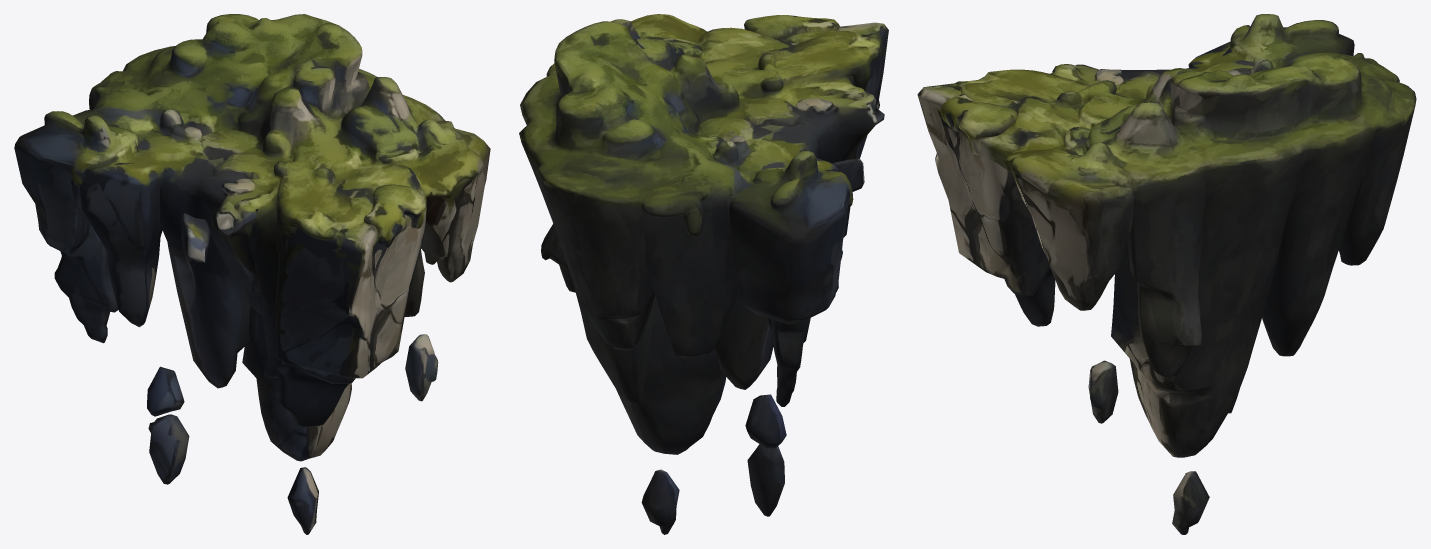
File: floating+rock+island+3d+model.fbx
3 renders of one model, left to right at view 1: azimuth 30°, elevation 25°; view 2: azimuth 150°, elevation 25°; view 3: azimuth 270°, elevation 25°, orthographic. The views are drawn at different scales.
Parts seen in each view (by area): view 1: tripo_579b9250_e28e_409e_9be5_d8634166b65d; view 2: tripo_579b9250_e28e_409e_9be5_d8634166b65d; view 3: tripo_579b9250_e28e_409e_9be5_d8634166b65d.
Part boxes in pixels (<box>): tripo_579b9250_e28e_409e_9be5_d8634166b65d: <box>14,14,490,534</box>; tripo_579b9250_e28e_409e_9be5_d8634166b65d: <box>519,14,888,534</box>; tripo_579b9250_e28e_409e_9be5_d8634166b65d: <box>917,14,1416,534</box>.
Size of the model in its own units: 0.7798 by 0.9995 by 0.937.
